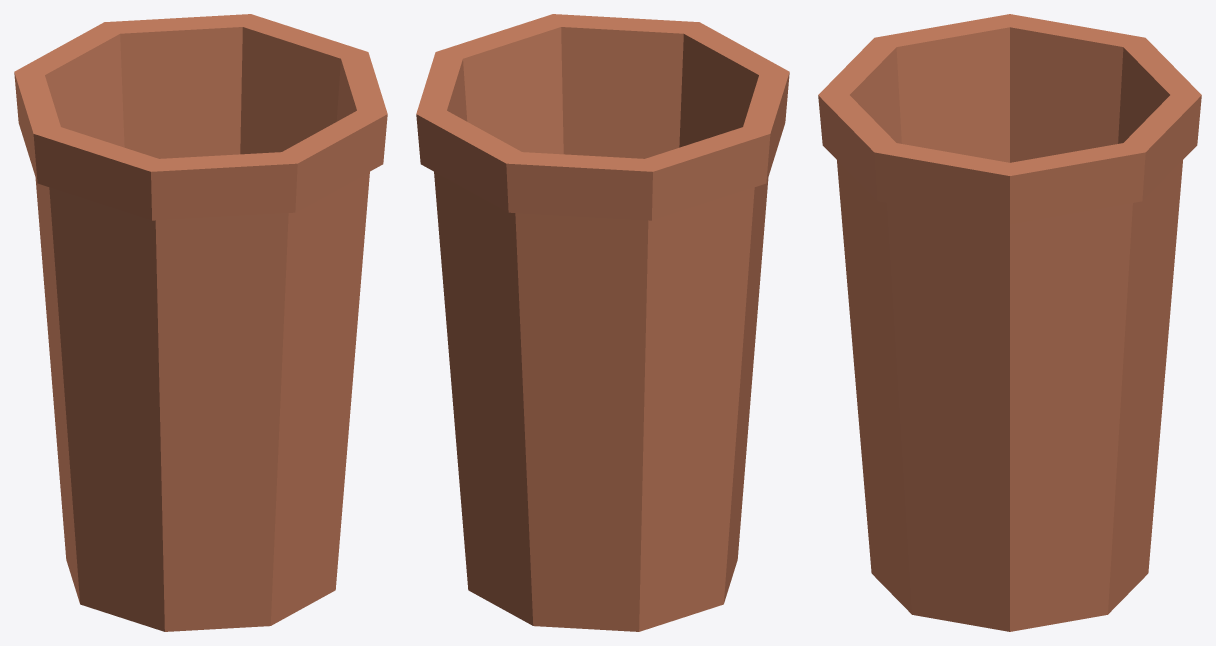
File: ToothbrushCup_04.fbx
3 views of the same model, side by side, from view 1: azimuth 30°, elevation 25°; view 2: azimuth 150°, elevation 25°; view 3: azimuth 270°, elevation 25° (orthographic).
Visible parts, largest first — view 1: ToothbrushCup_04; view 2: ToothbrushCup_04; view 3: ToothbrushCup_04.
Part boxes in pixels (bbox=[...]): ToothbrushCup_04: bbox=[14, 14, 387, 631]; ToothbrushCup_04: bbox=[416, 14, 789, 631]; ToothbrushCup_04: bbox=[818, 14, 1201, 631].
Size of the model in its own units: 11.47 by 15.78 by 11.47.
